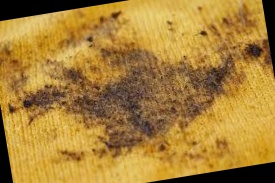earth: (73, 68, 217, 129), (102, 120, 167, 150), (117, 49, 153, 81), (22, 86, 63, 111), (213, 59, 238, 93), (62, 68, 88, 87), (243, 42, 263, 61)
